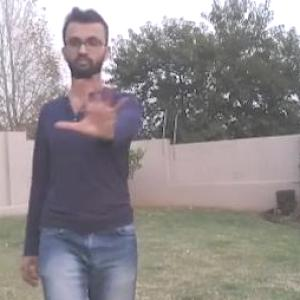follow_hand: (53, 68, 134, 140)
